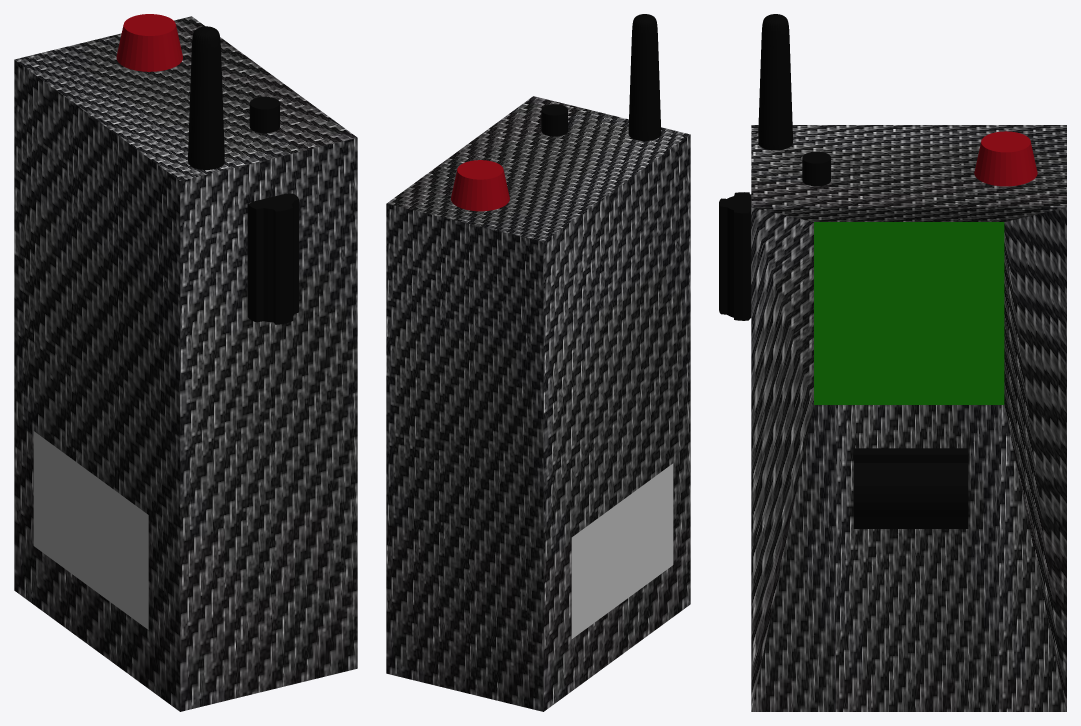
Rendered from PetrRadio.fbx.
3 renders of one model, left to right at view 1: azimuth 30°, elevation 25°; view 2: azimuth 150°, elevation 25°; view 3: azimuth 270°, elevation 25°, orthographic. The views are drawn at different scales.
Visible parts, largest first — view 1: Cube; view 2: Cube; view 3: Cube.
Part boxes in pixels (box(x1,y1,x2,y2)): Cube: box(14, 14, 357, 711); Cube: box(386, 14, 690, 711); Cube: box(719, 14, 1066, 711).
Bounding box in the file's own units: 361 × 1156 × 577.
